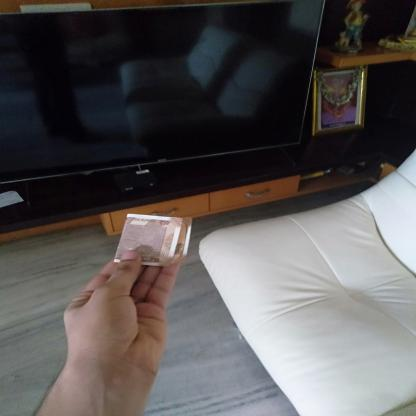New10Back: (115, 212, 177, 264)
